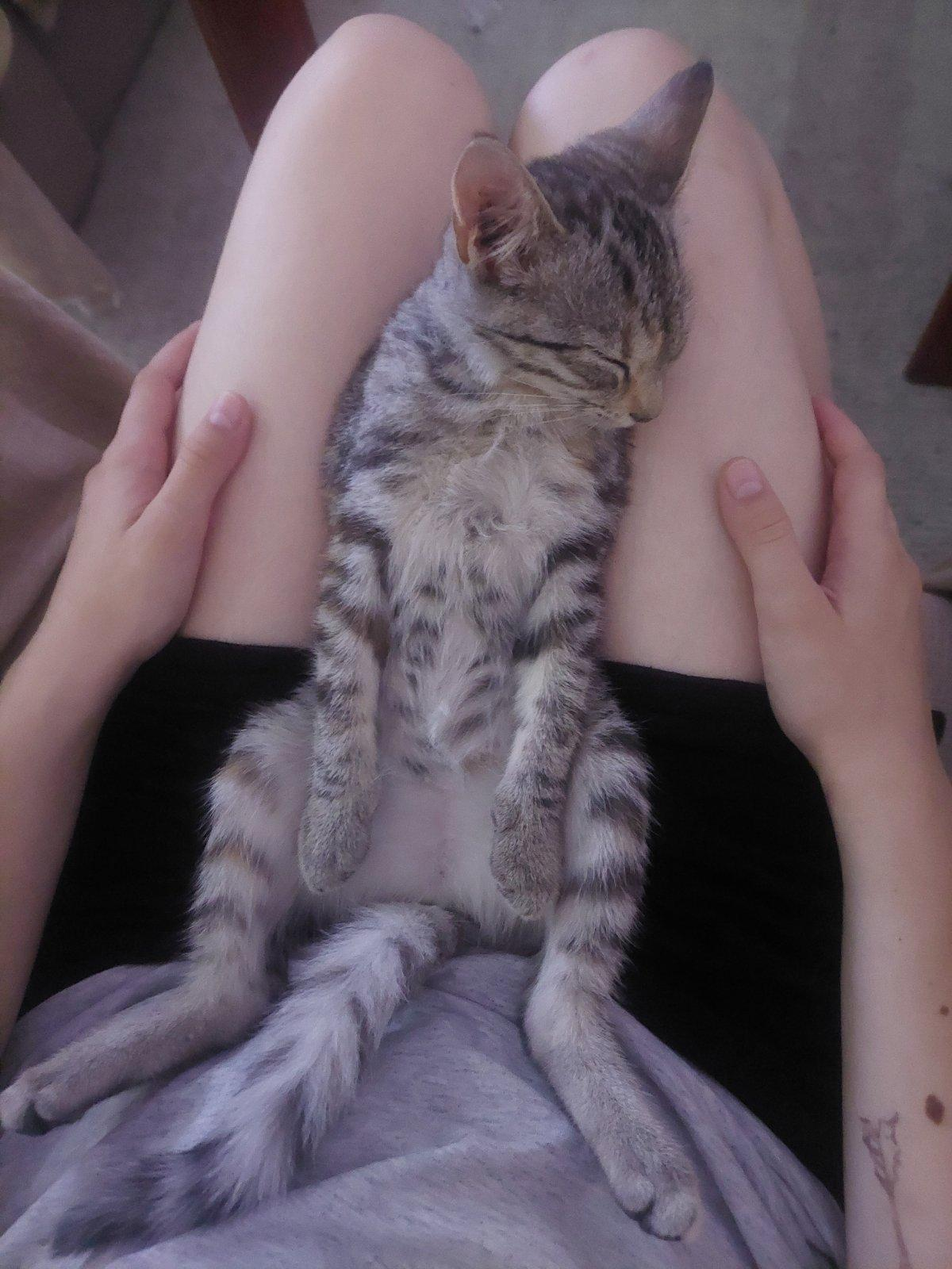macka: (2, 58, 713, 1254)
